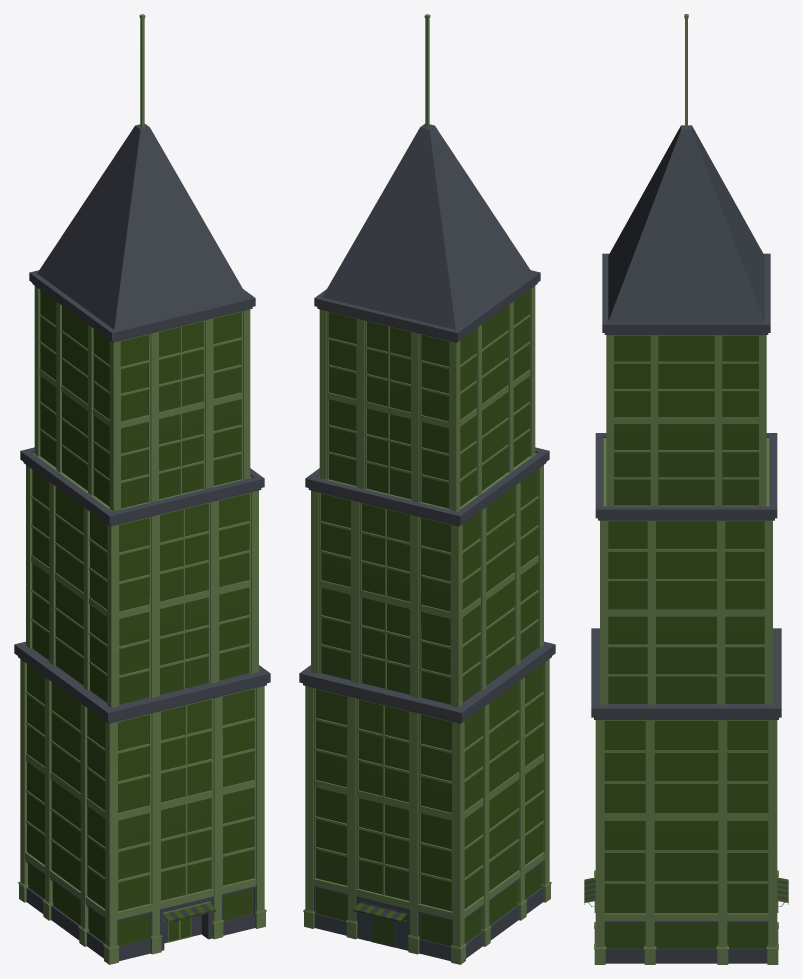
File: House_40.fbx
The picture shows the model from 3 angles, left to right: view 1: azimuth 30°, elevation 25°; view 2: azimuth 150°, elevation 25°; view 3: azimuth 270°, elevation 25°; orthographic projection.
Visible parts, largest first — view 1: House_40; view 2: House_40; view 3: House_40.
Part boxes in pixels (x1,y1,x2,y2): House_40: (14, 14, 270, 964); House_40: (299, 14, 555, 964); House_40: (584, 14, 788, 964).
Bounding box in the file's own units: 12.06 × 63.65 × 12.93.
